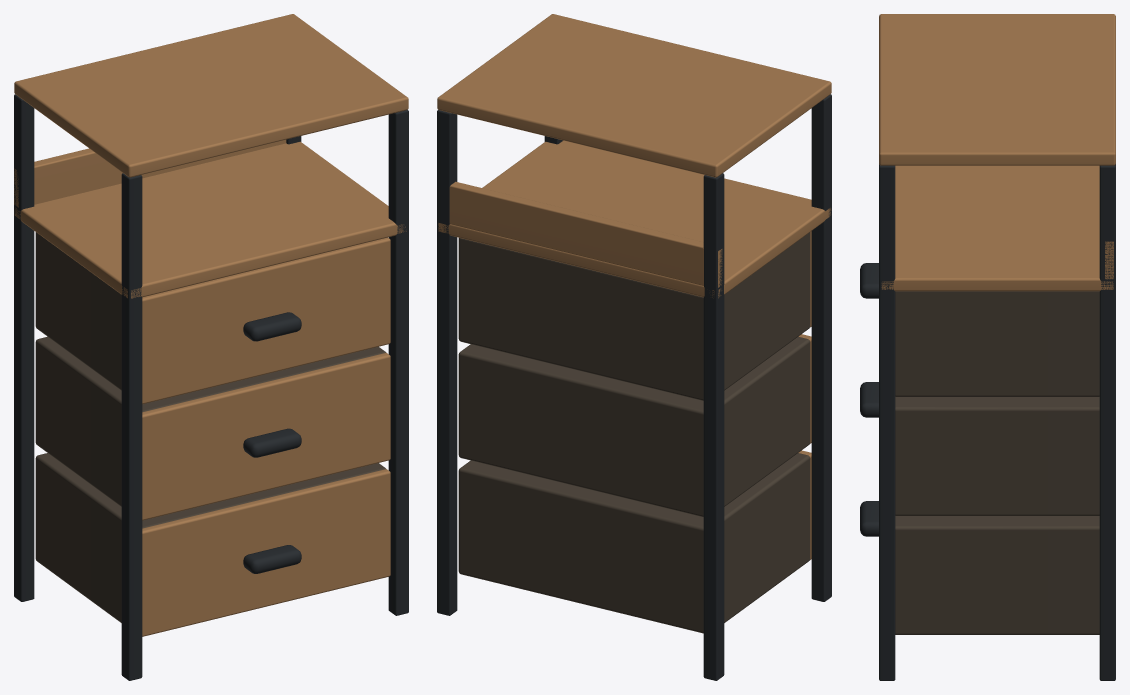
File: nightstand.glb
3 renders of one model, left to right at view 1: azimuth 30°, elevation 25°; view 2: azimuth 150°, elevation 25°; view 3: azimuth 270°, elevation 25°, orthographic. The views are drawn at different scales.
Parts seen in each view (by area): view 1: nightstand; view 2: nightstand; view 3: nightstand.
Part boxes in pixels (box(x1,y1,x2,y2)): nightstand: box(14, 14, 408, 680); nightstand: box(437, 14, 831, 680); nightstand: box(860, 14, 1115, 680).
Size of the model in its own units: 0.409 by 0.7188 by 0.3156.
